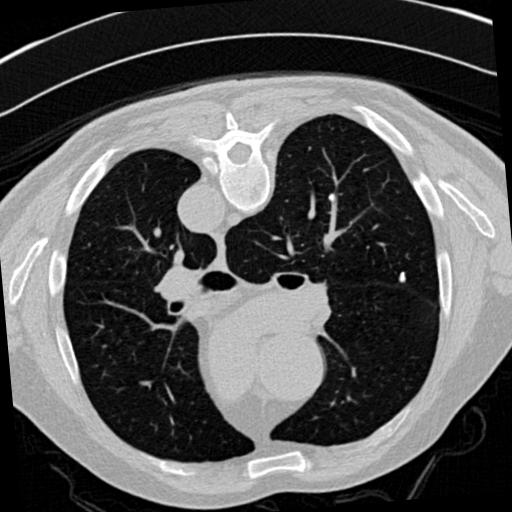nodule: (396, 271, 411, 286)
